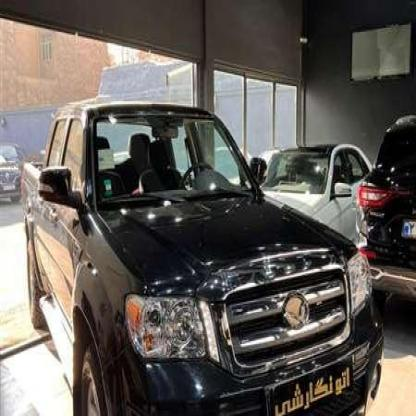Car: (23, 87, 380, 416), (358, 107, 416, 310), (256, 147, 381, 239), (0, 145, 19, 201)
